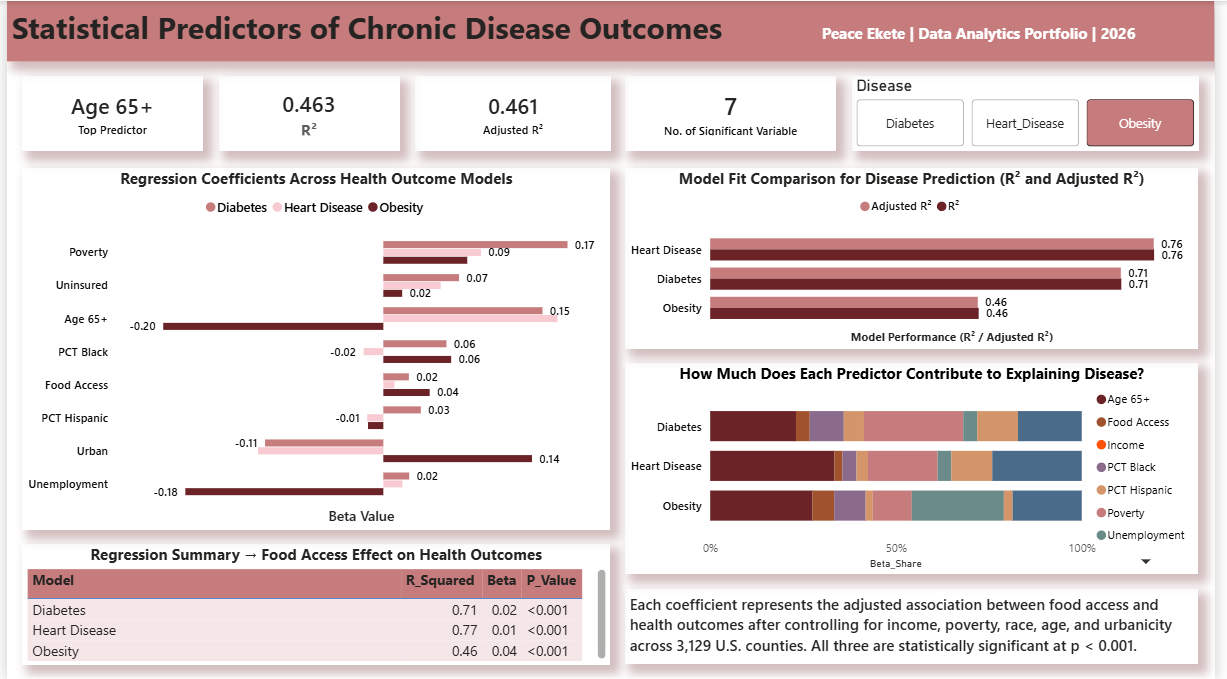

The dashboard page shown, as its layout file describes it:
{"tool":"powerbi","page":{"name":"Page 3_statistical_predictors","canvas":[1280,720],"ordinal":2},"visuals":[{"type":"advancedSlicerVisual","fields":{"Values":["Slicer_Table.Outcome_Name"]},"box":[896,80,368,80],"z":0},{"type":"textbox","box":[656,624,608,80],"z":1000},{"type":"tableEx","title":"Regression Summary → Food Access Effect on Health Outcomes","fields":{"Values":["Model_Summary.Model","Model_Summary.R_Squared","Model_Summary.Beta","Model_Summary.P_Value"]},"box":[16,576,624,128],"z":2000},{"type":"clusteredBarChart","title":"Regression Coefficients Across Health Outcome Models","fields":{"Category":["Regression Results (2).Variable"],"Series":["Regression Results (2).Model_Clean"],"Y":["Regression Results (2).Beta_Value"]},"box":[16,176,624,384],"z":3000},{"type":"textbox","box":[0,0,1280,64],"z":4000},{"type":"cardVisual","fields":{"Data":["Regression Results (2).R²"]},"box":[224,80,192,80],"z":5000},{"type":"cardVisual","fields":{"Data":["Regression Results (2).Adjusted_R_Squared"]},"box":[432,80,208,80],"z":6000},{"type":"cardVisual","fields":{"Data":["Regression Results (2).Strongest_Predictor"]},"box":[16,80,192,80],"z":7000},{"type":"cardVisual","fields":{"Data":["Regression Results (2).Significant_Variables_Count"]},"box":[656,80,224,80],"z":8000},{"type":"hundredPercentStackedBarChart","title":"How Much Does Each Predictor Contribute to Explaining Disease?","fields":{"Y":["master_county_final.Beta_Share"],"Category":["Regression Results (2).Model_Clean"],"Series":["Regression Results (2).Variable"]},"box":[656,384,608,224],"z":9000},{"type":"clusteredBarChart","title":"Model Fit Comparison for Disease Prediction (R² and Adjusted R²)","fields":{"Category":["Model Fit.Model"],"Y":["Avg(Model Fit.Value)"],"Series":["Model Fit.Metric"]},"box":[656,176,608,192],"z":10000}]}

Visuals, with their boxes in screenshot pixels (x1, y1, x2, y2), scaled from the page's 1280x720 canvas onto the 1227x679 screenshot:
advancedSlicerVisual - Slicer_Table.Outcome_Name: bbox(859, 75, 1212, 151)
textbox: bbox(629, 588, 1212, 664)
"Regression Summary → Food Access Effect on Health Outcomes" tableEx: bbox(15, 543, 614, 664)
"Regression Coefficients Across Health Outcome Models" clusteredBarChart: bbox(15, 166, 614, 528)
textbox: bbox(0, 0, 1226, 60)
cardVisual - Regression Results (2).R²: bbox(215, 75, 399, 151)
cardVisual - Regression Results (2).Adjusted_R_Squared: bbox(414, 75, 614, 151)
cardVisual - Regression Results (2).Strongest_Predictor: bbox(15, 75, 199, 151)
cardVisual - Regression Results (2).Significant_Variables_Count: bbox(629, 75, 844, 151)
"How Much Does Each Predictor Contribute to Explaining Disease?" hundredPercentStackedBarChart: bbox(629, 362, 1212, 573)
"Model Fit Comparison for Disease Prediction (R² and Adjusted R²)" clusteredBarChart: bbox(629, 166, 1212, 347)
